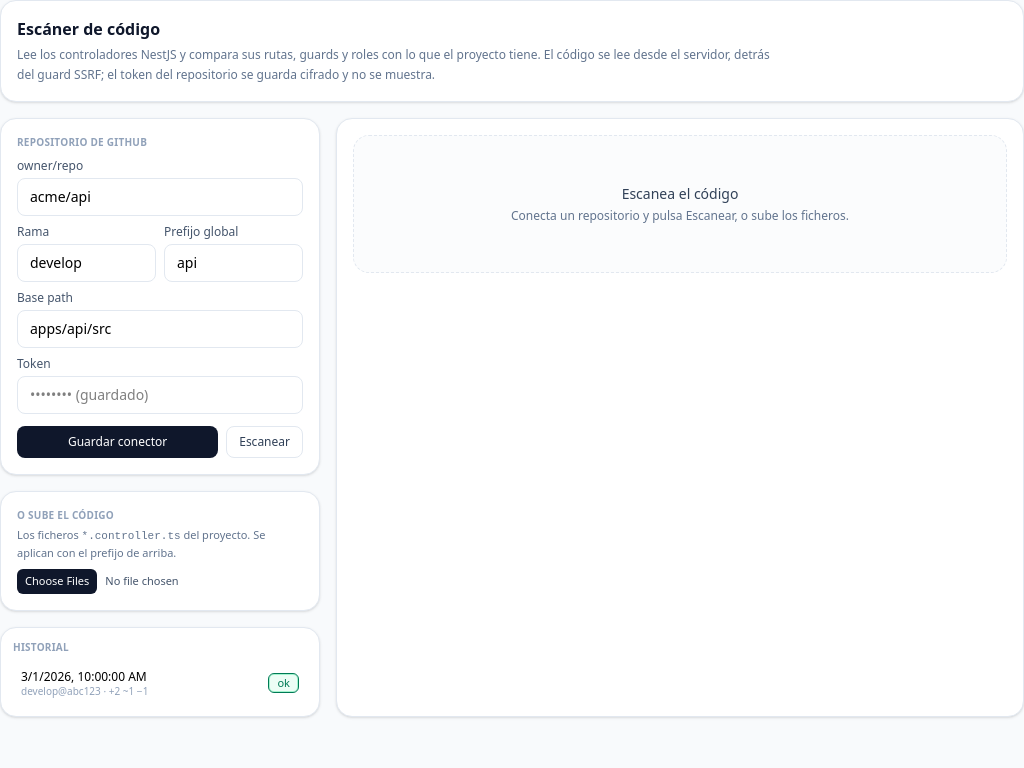
Test case: el escáner de código › importar manda si crear los roles y dice cuánto creó
Click the text "develop@abc123 · +2 ~1 −1": click(85, 690) top-left (21, 684), bottom-right (148, 698)
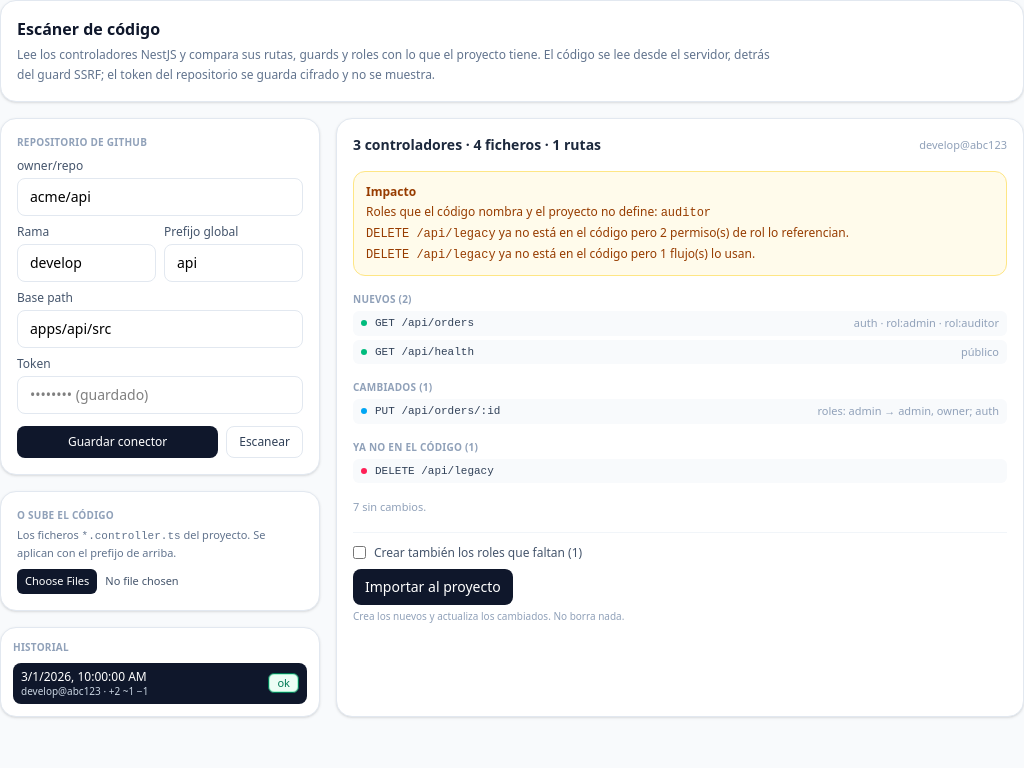
Now the checkbox labelled "Crear también los roles que faltan (1)" is enabled
Click the checkbox labelled "Crear también los roles que faltan (1)": click(360, 552) top-left (353, 546), bottom-right (366, 559)
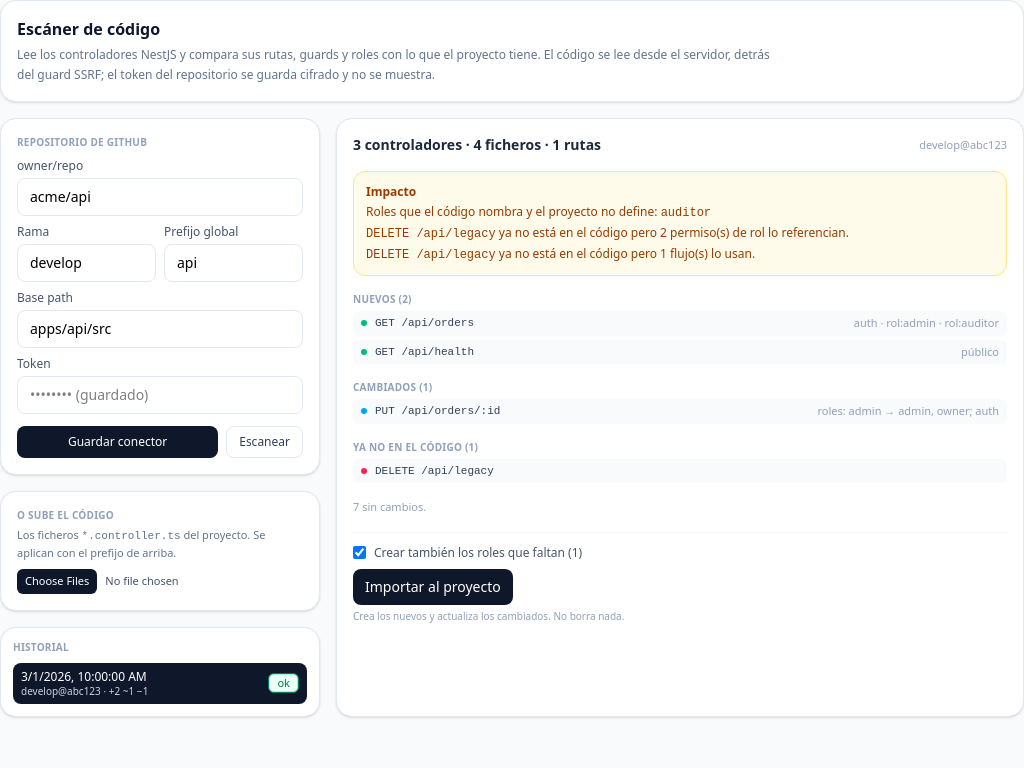
Click the button "Importar al proyecto": click(433, 586) top-left (353, 568), bottom-right (513, 604)
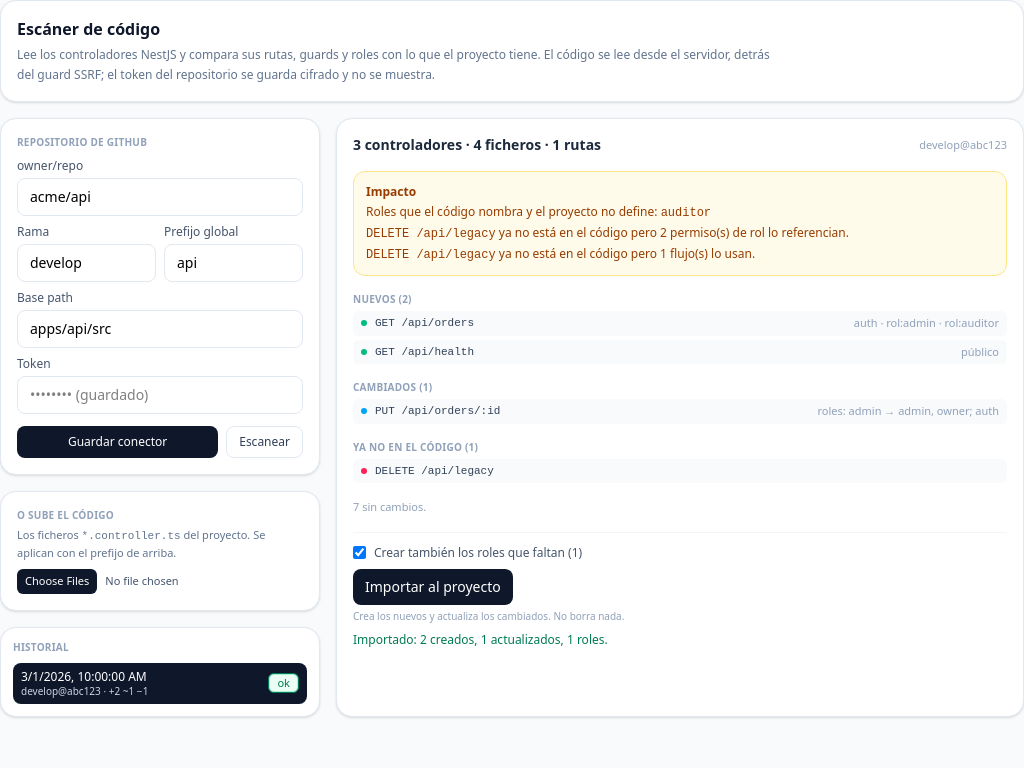
Now the text "Importado: 2 creados, 1 actualizados, 1 roles." is shown, box top-left (353, 630), bottom-right (608, 648)
